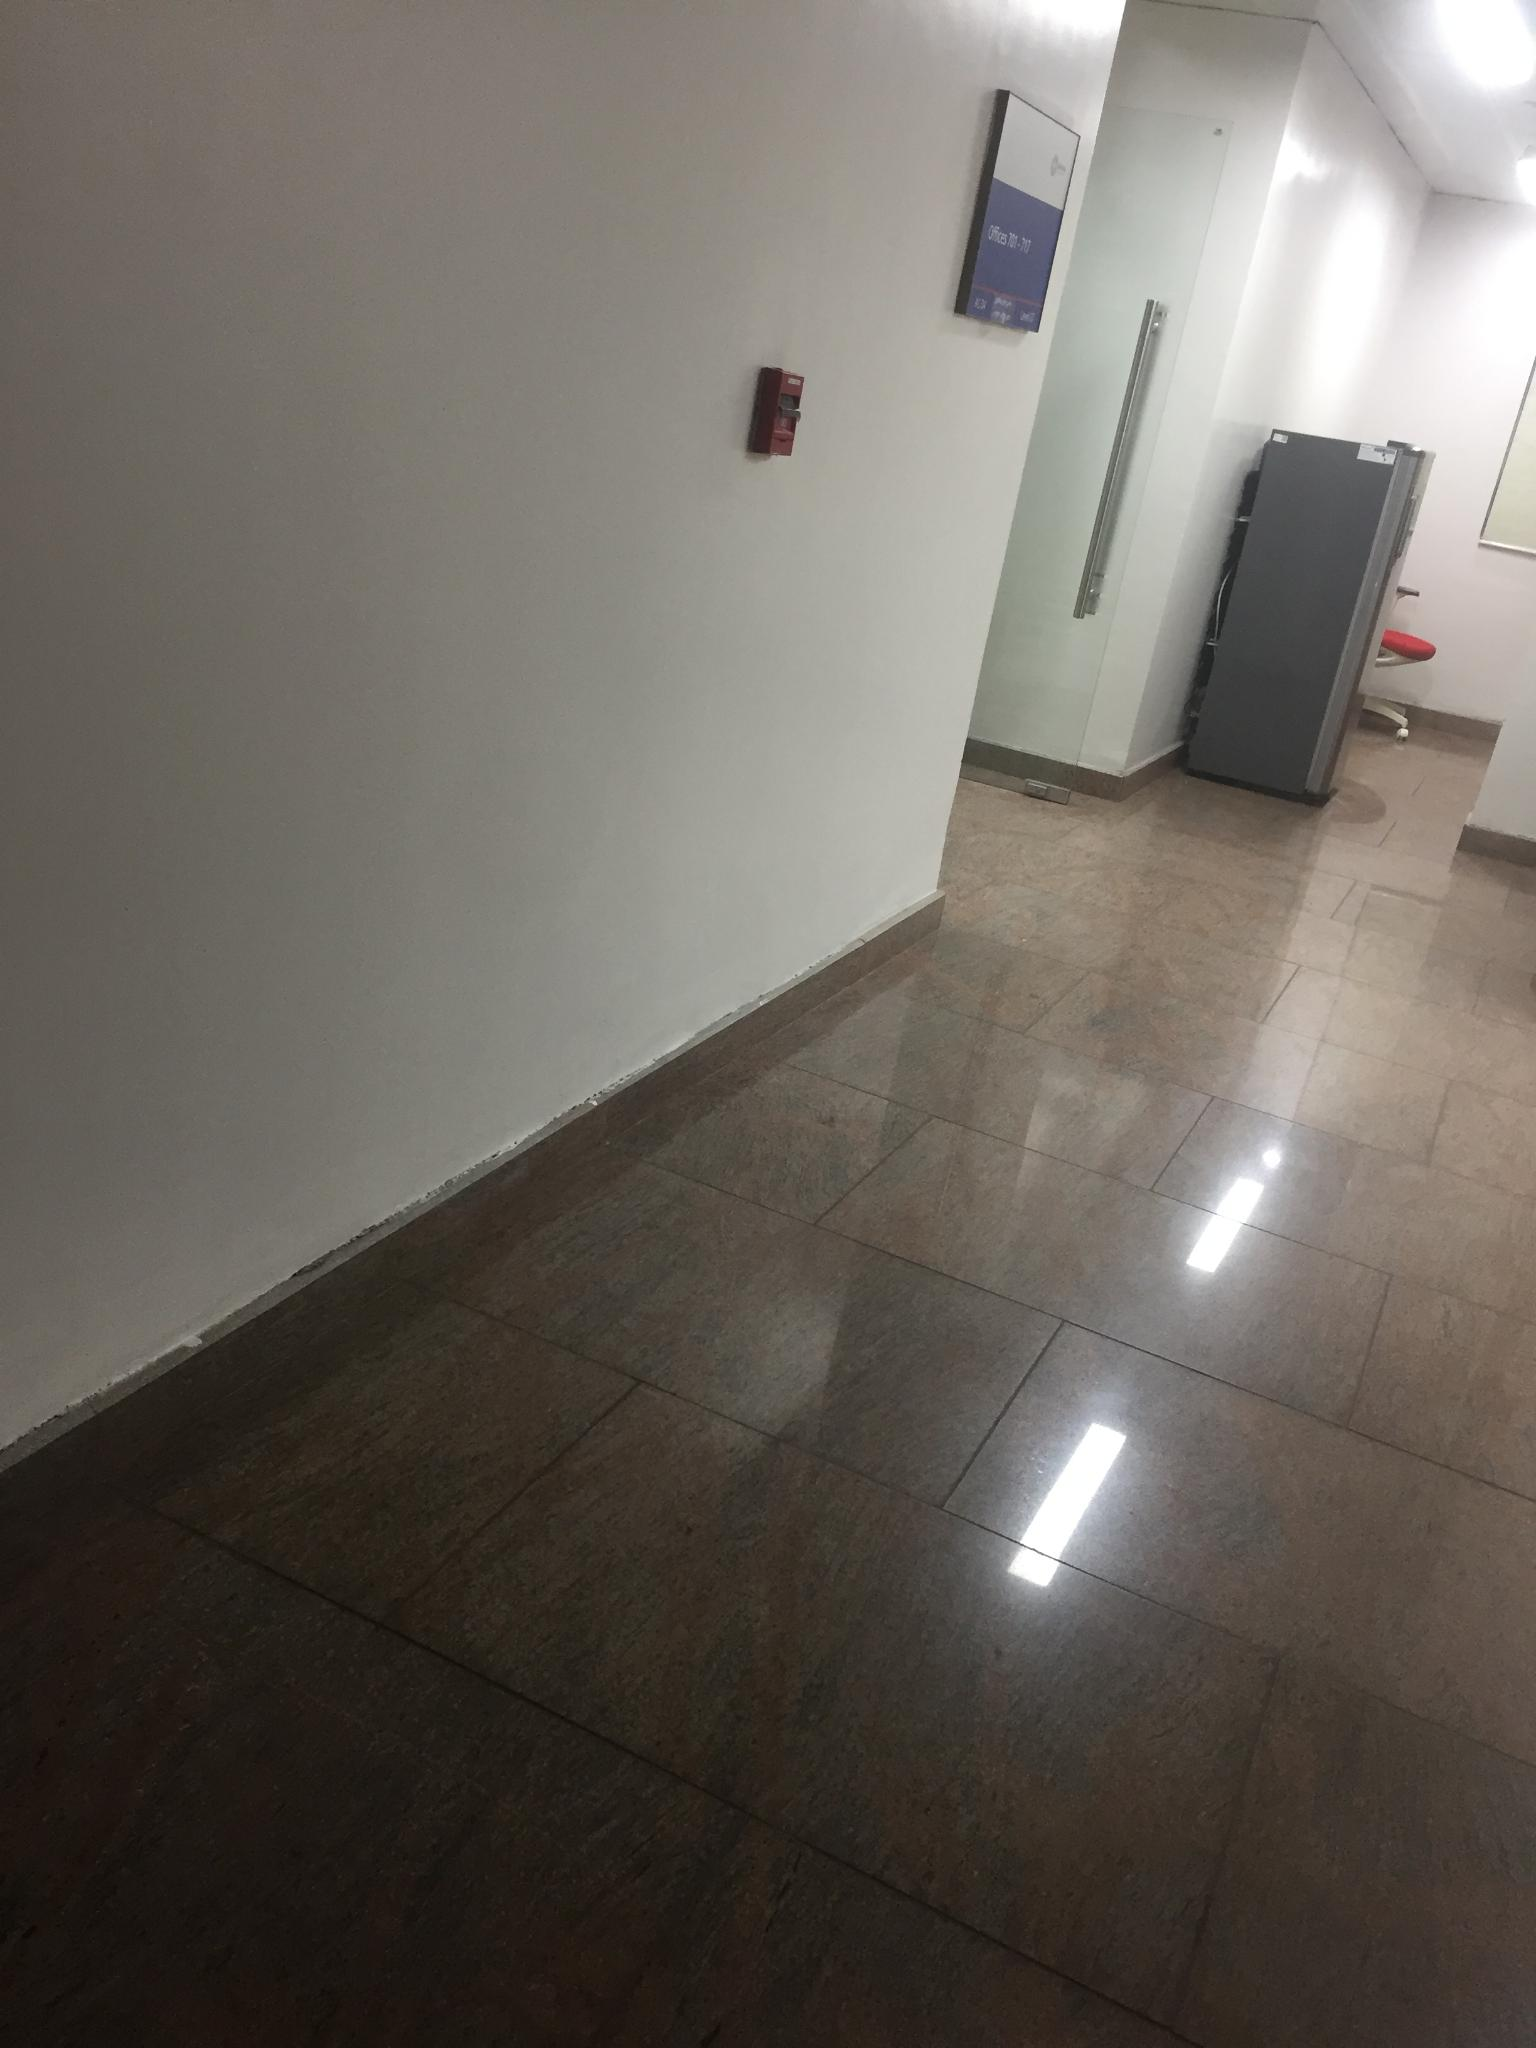chair: (1326, 563, 1455, 768)
